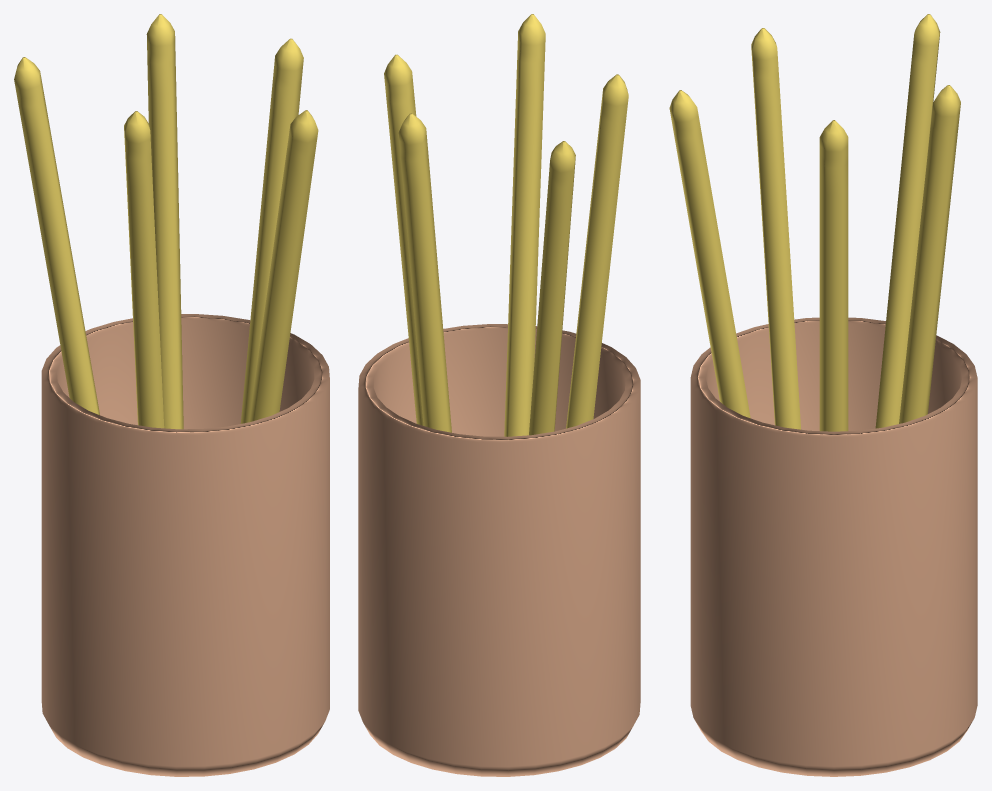
The picture shows the model from 3 angles, left to right: view 1: azimuth 30°, elevation 25°; view 2: azimuth 150°, elevation 25°; view 3: azimuth 270°, elevation 25°; orthographic projection. The views are drawn at different scales.
Parts seen in each view (by area): view 1: Pencil pot with pencils; view 2: Pencil pot with pencils; view 3: Pencil pot with pencils.
Boxes of the visible parts, bbox=[...] form: Pencil pot with pencils: bbox=[14, 14, 329, 776]; Pencil pot with pencils: bbox=[358, 14, 640, 776]; Pencil pot with pencils: bbox=[669, 14, 977, 776].
Size of the model in its own units: 0.076 by 0.1901 by 0.0816.
